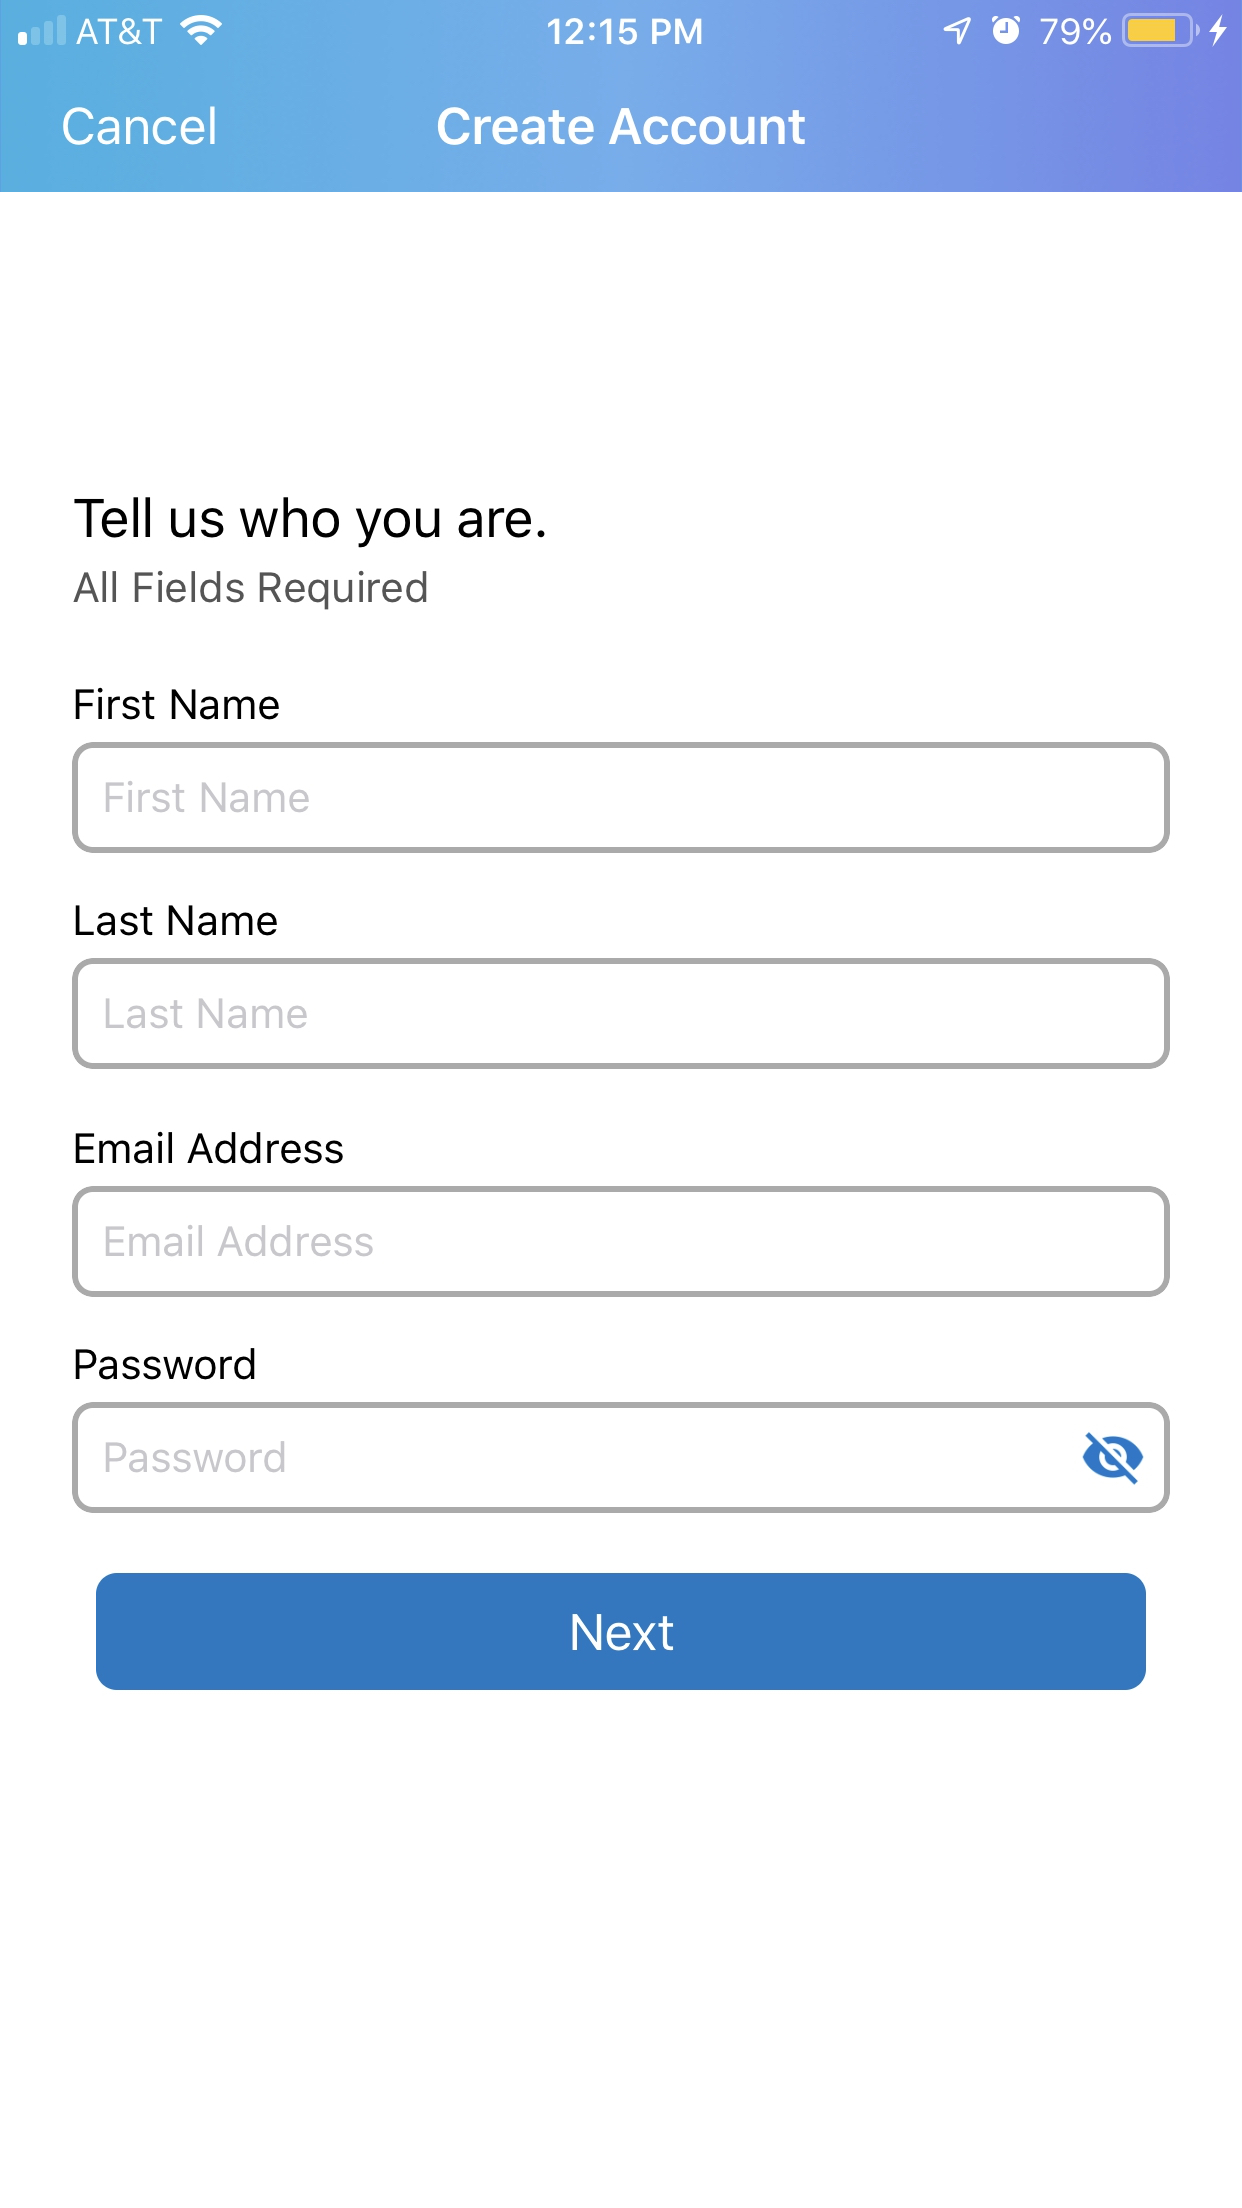EditText: (71, 742, 1171, 854), (71, 958, 1171, 1071), (71, 1186, 1171, 1298), (73, 1403, 1171, 1513)
Icon: (1081, 1432, 1143, 1486)
Text: (74, 497, 546, 549), (437, 108, 805, 147), (74, 570, 428, 611), (74, 1131, 344, 1165), (106, 1225, 375, 1259), (74, 687, 281, 720), (105, 781, 309, 814), (74, 904, 279, 937), (62, 105, 217, 147), (105, 998, 308, 1030), (105, 1441, 287, 1474), (74, 1348, 256, 1382)
TextButton: (96, 1573, 1146, 1691)
UpperTaskBar: (2, 2, 1242, 49)
